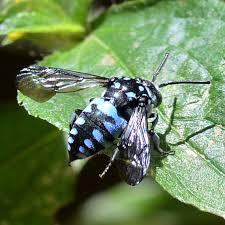Thyreus: (22, 43, 206, 183)
